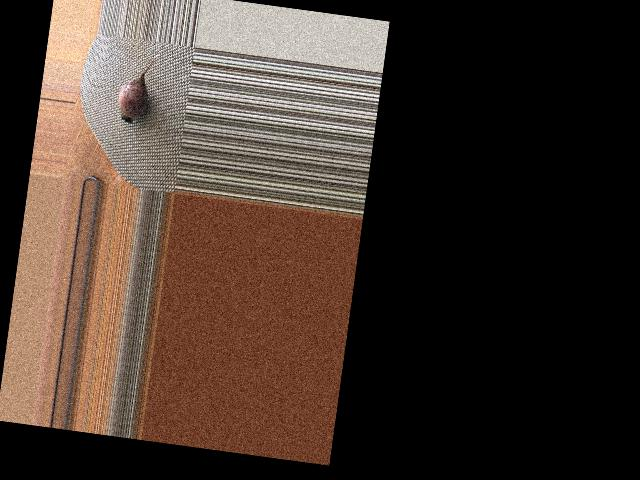beet: (115, 50, 160, 126)
